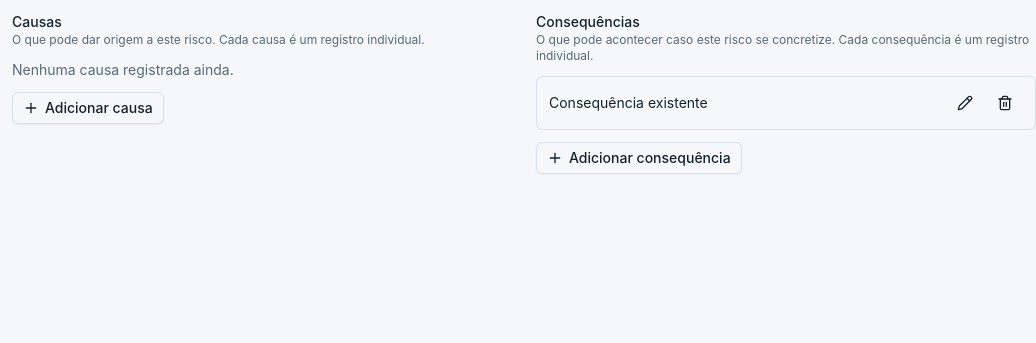
Test: RiskCausesConsequences › surfaces a 409 as a conflict banner without discarding the item still being edited
Click the button named "Editar consequência 1" at (965, 103), box [947,85,983,121]
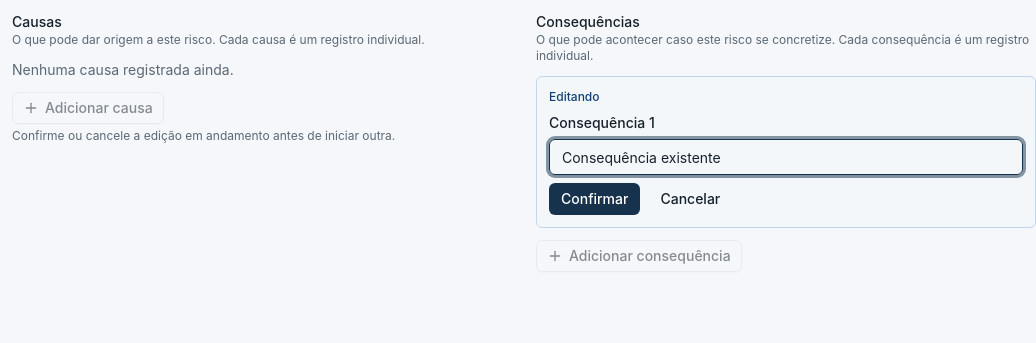
Replace the text in the field labelled "Consequência 1" with "Consequência editada" at (786, 157), box [549,139,1023,175]
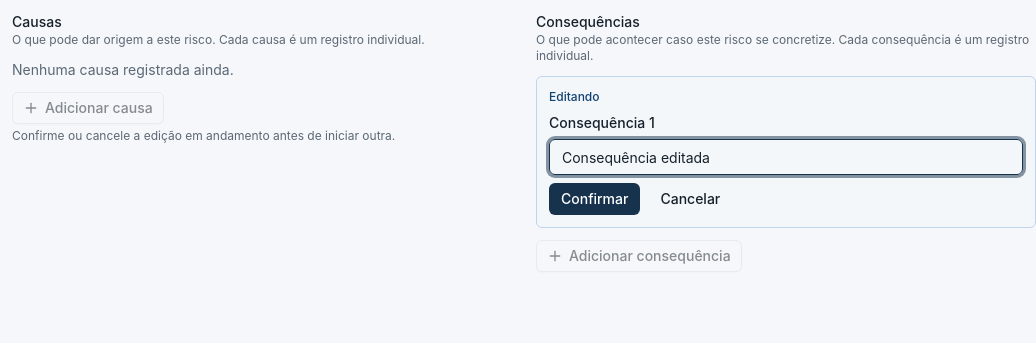
Click the button "Confirmar" at (595, 199), box [549,183,640,215]
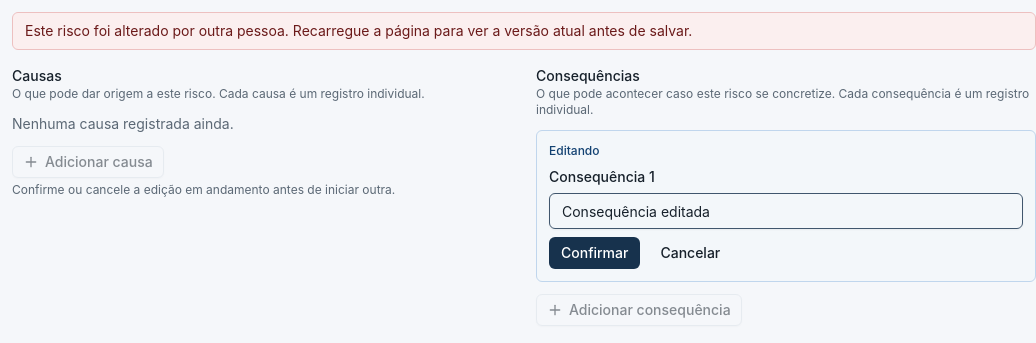
Now the text "Este risco foi alterado por outra pessoa. Recarregue a página para ver a versão atual antes de salvar." is shown, box [25,22,692,39]
